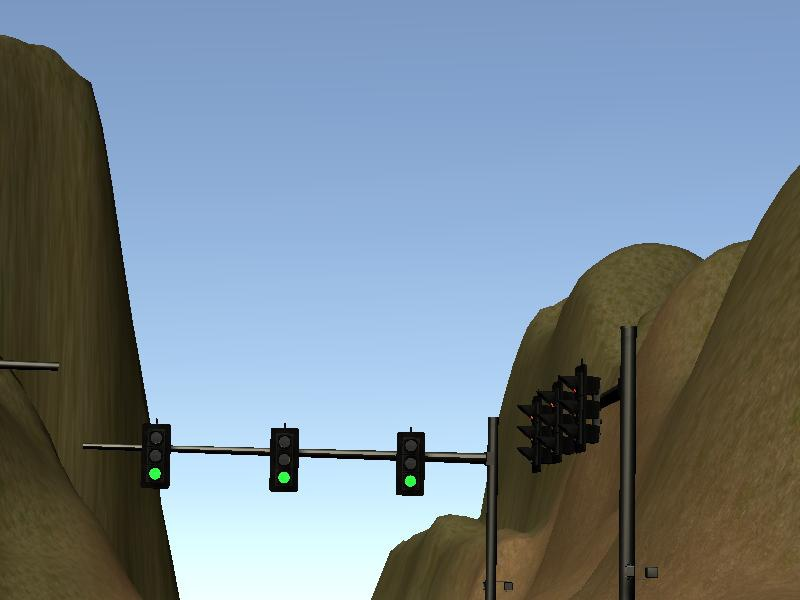Green: (138, 422, 172, 490), (267, 425, 301, 493), (393, 431, 427, 499)
